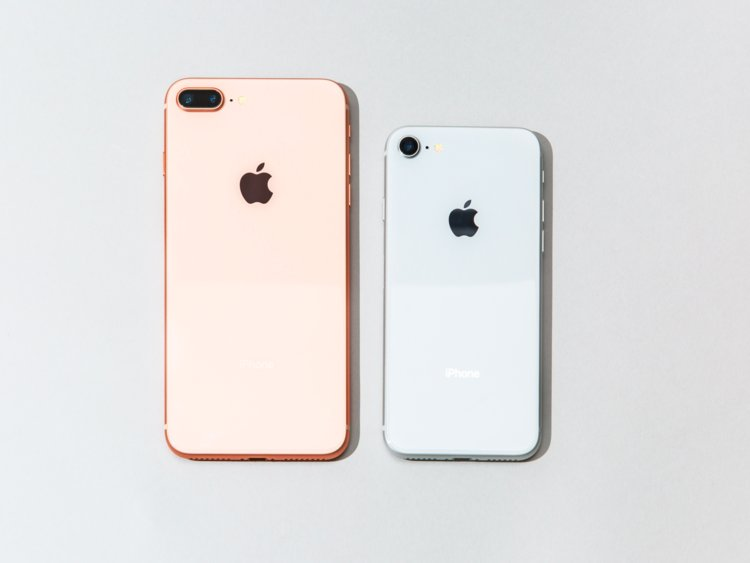apple: (226, 152, 291, 214), (445, 189, 491, 249)
